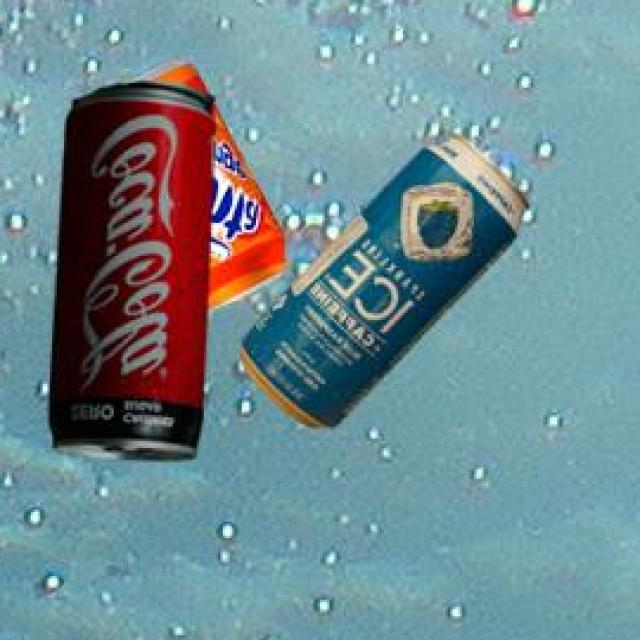logam: (245, 132, 532, 423), (53, 77, 219, 456), (158, 53, 290, 309)
